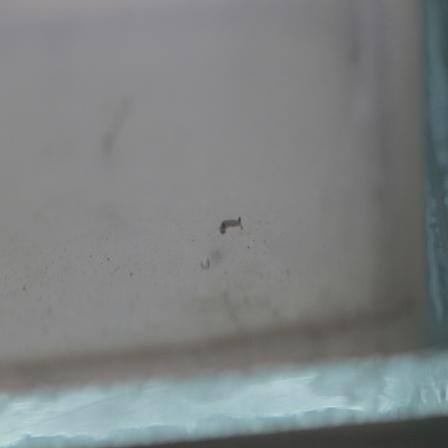Jentik-Nyamuk: (216, 212, 248, 239)
